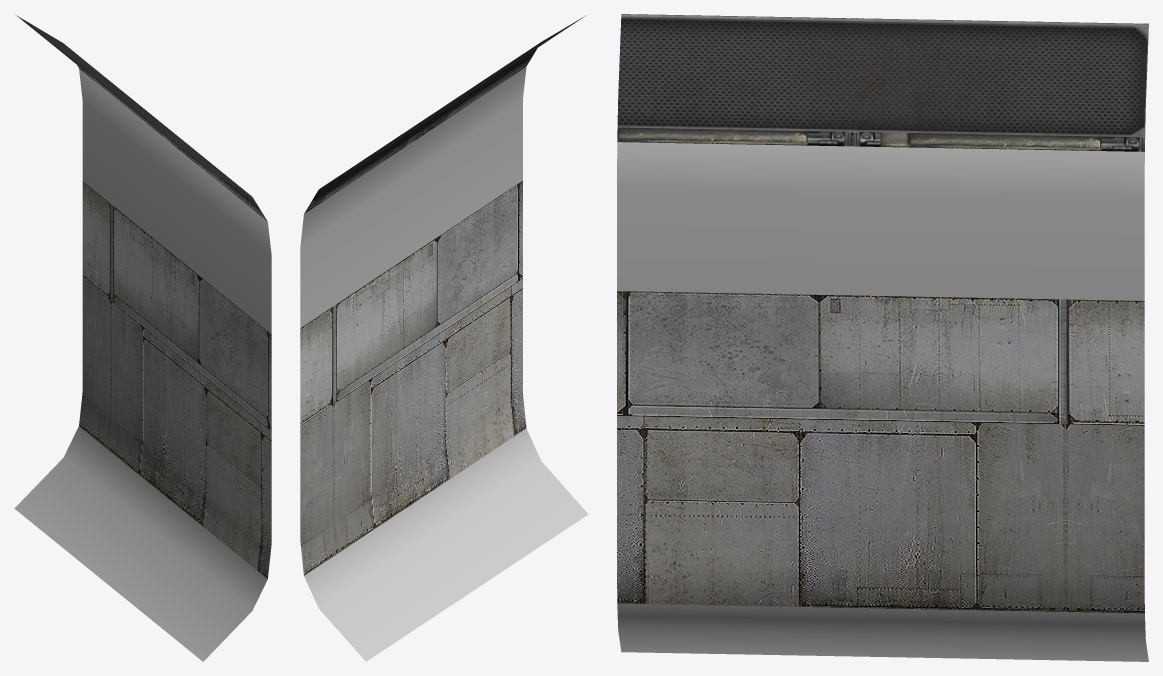
File: Wall_L_Mid4mts_02.fbx
3 renders of one model, left to right at view 1: azimuth 30°, elevation 25°; view 2: azimuth 150°, elevation 25°; view 3: azimuth 270°, elevation 25°, orthographic. The views are drawn at different scales.
Visible parts, largest first — view 1: Wall_L_Mid4mts_02; view 2: Wall_L_Mid4mts_02; view 3: Wall_L_Mid4mts_02.
Part boxes in pixels (bbox=[...]): Wall_L_Mid4mts_02: bbox=[14, 14, 271, 661]; Wall_L_Mid4mts_02: bbox=[300, 15, 588, 661]; Wall_L_Mid4mts_02: bbox=[617, 14, 1148, 661].
Bounding box in the file's own units: 69.64 × 400 × 302.
